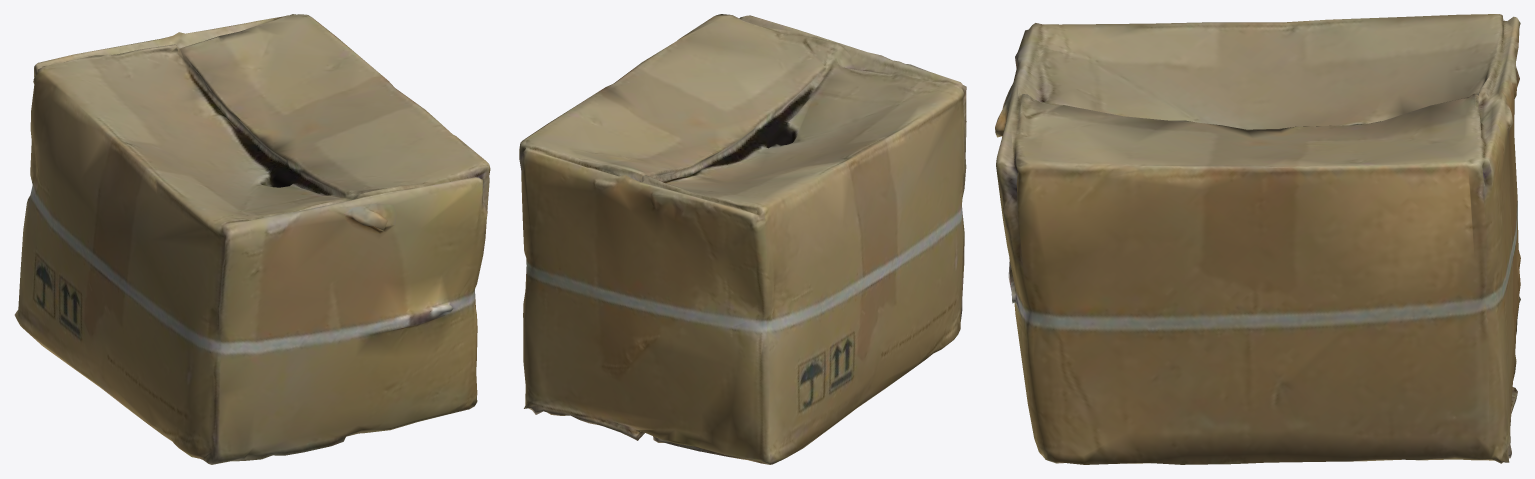
The model's file is cardboard_box.glb.
3 renders of one model, left to right at view 1: azimuth 30°, elevation 25°; view 2: azimuth 150°, elevation 25°; view 3: azimuth 270°, elevation 25°, orthographic. The views are drawn at different scales.
Parts seen in each view (by area): view 1: cardboard_box_01; view 2: cardboard_box_01; view 3: cardboard_box_01.
Boxes of the visible parts, x1=… form: cardboard_box_01: x1=14, y1=14, x2=490, y2=464; cardboard_box_01: x1=519, y1=14, x2=966, y2=464; cardboard_box_01: x1=995, y1=14, x2=1520, y2=464.
Bounding box in the file's own units: 0.3868 × 0.3418 × 0.5159.
Materials: 1 (1 with a texture image).
